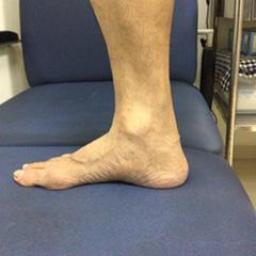Medial View -Right Foot-: (7, 97, 192, 208)
